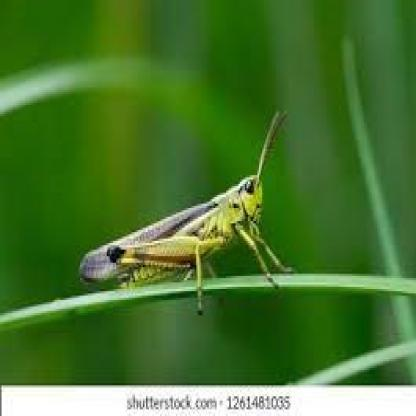grasshopper: (78, 114, 295, 295)
